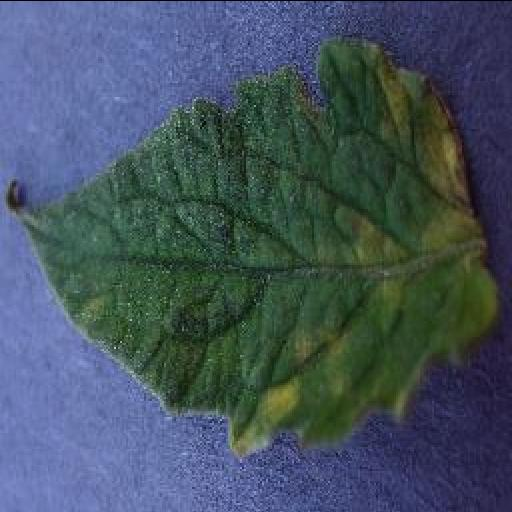disease_tomato: (5, 32, 503, 454)
